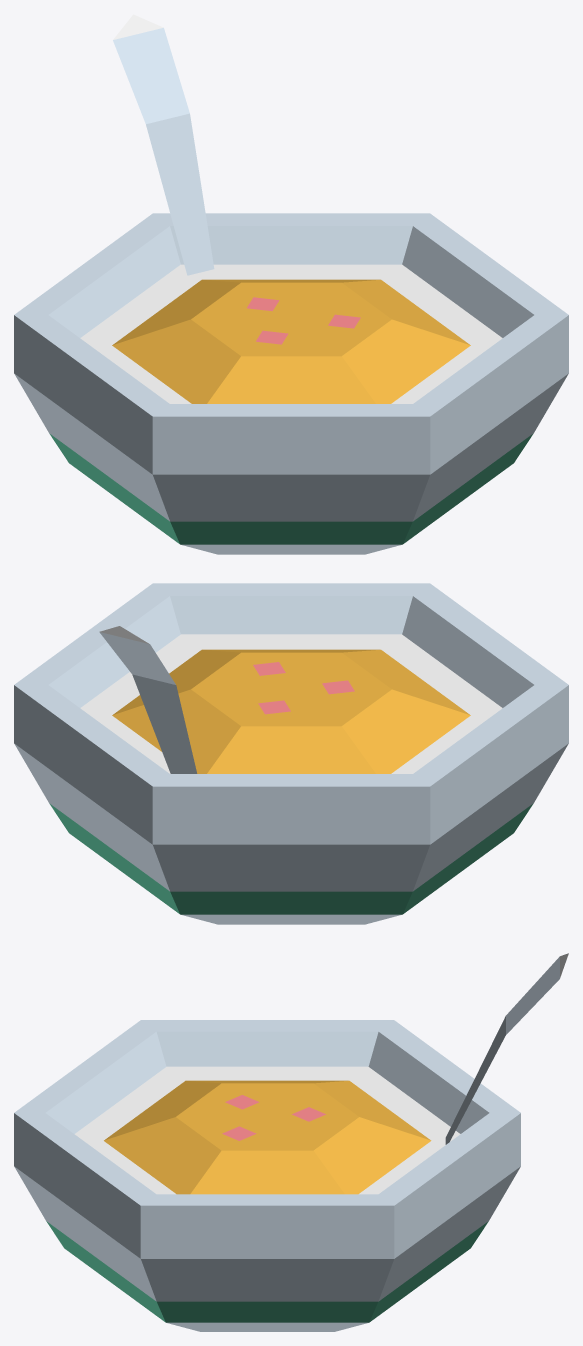
Rendered from bowlCereal.fbx.
The picture shows the model from 3 angles, top to bottom: view 1: azimuth 30°, elevation 25°; view 2: azimuth 150°, elevation 25°; view 3: azimuth 270°, elevation 25°; orthographic projection. The views are drawn at different scales.
Parts seen in each view (by area): view 1: bowlCereal; view 2: bowlCereal; view 3: bowlCereal.
Boxes of the visible parts, <box> form: bowlCereal: <box>14,14,568,554</box>; bowlCereal: <box>14,583,568,924</box>; bowlCereal: <box>14,953,568,1331</box>.
Bounding box in the file's own units: 5.02 × 4.19 × 6.35.
